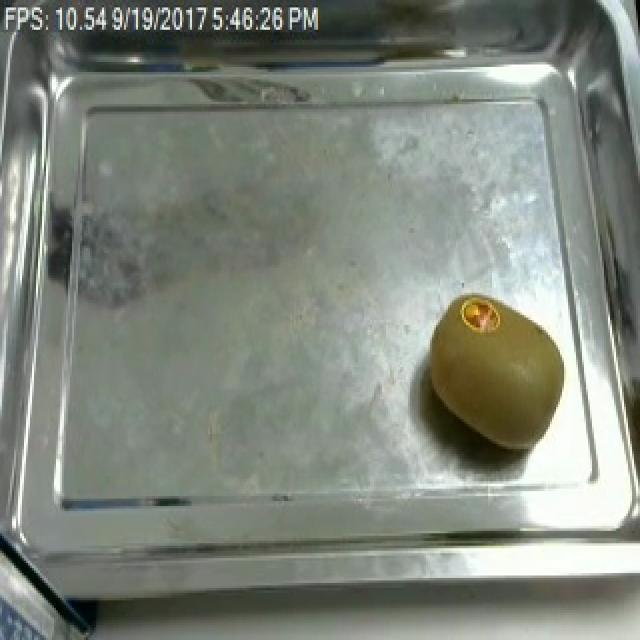Fruit: (416, 286, 574, 462)
